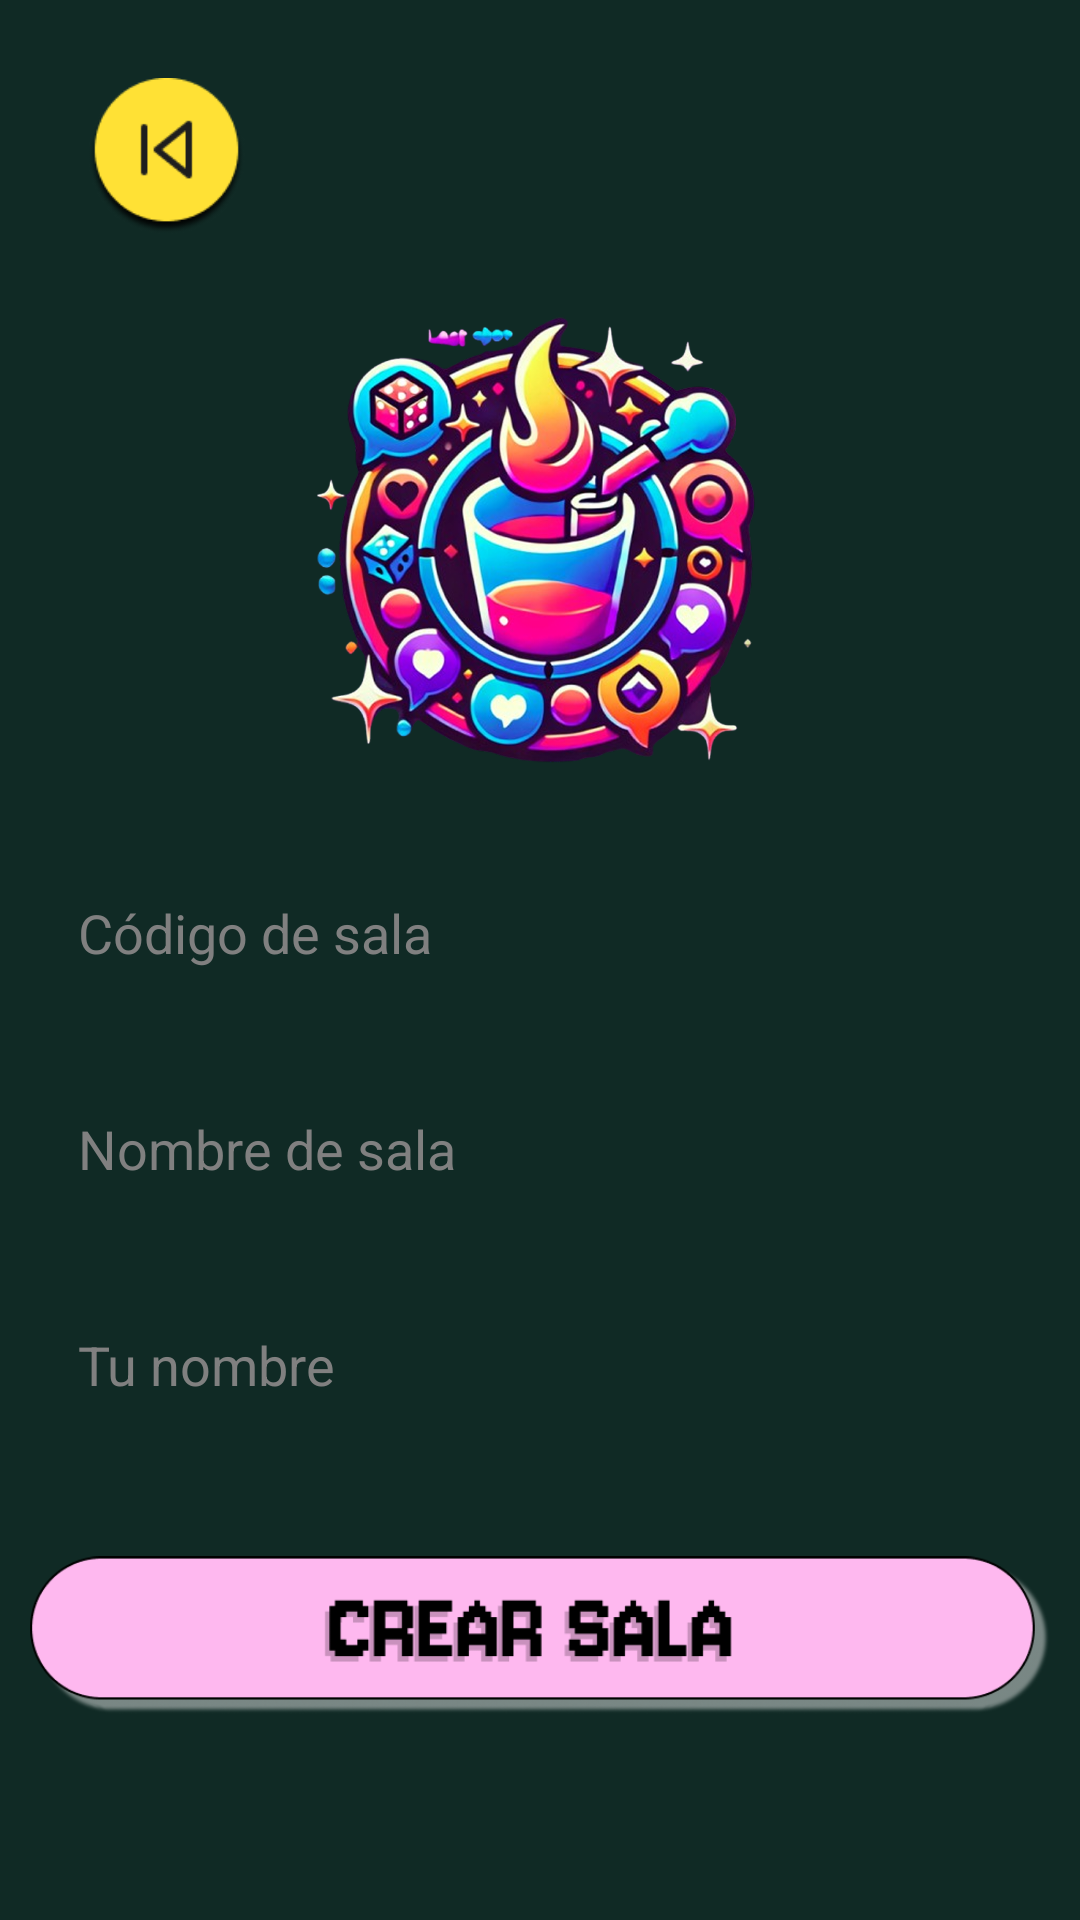

Icons on this 1080*1920 Android screen, each with its box as (x1=x1, y1=y1, x2=x2, y2=y2):
Volver: (x1=94, y1=78, x2=239, y2=227)
